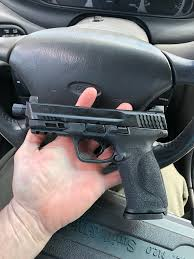gun: (9, 95, 174, 223)
